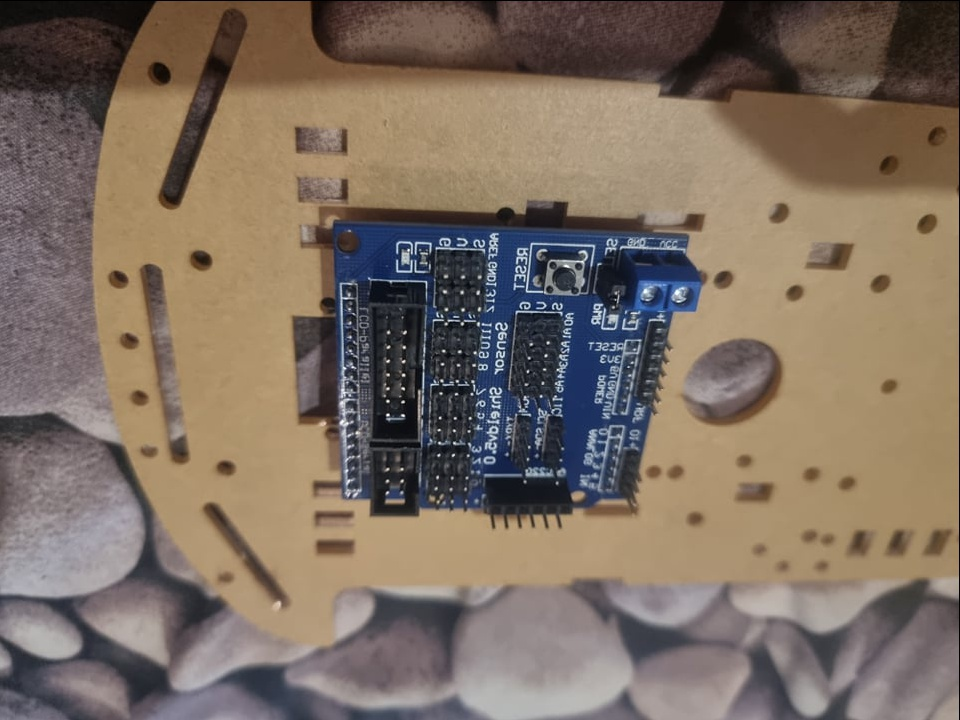5V EXPANSION: (330, 220, 700, 529)
